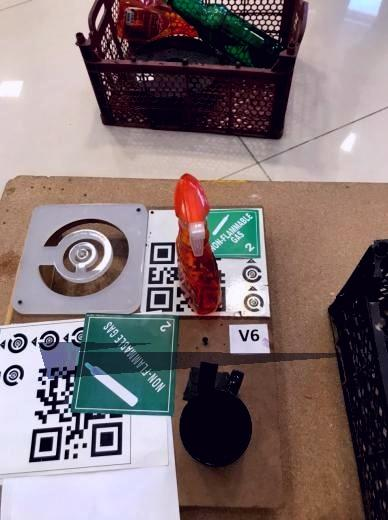non-flammable-gas: (74, 309, 176, 415), (203, 203, 262, 259)
